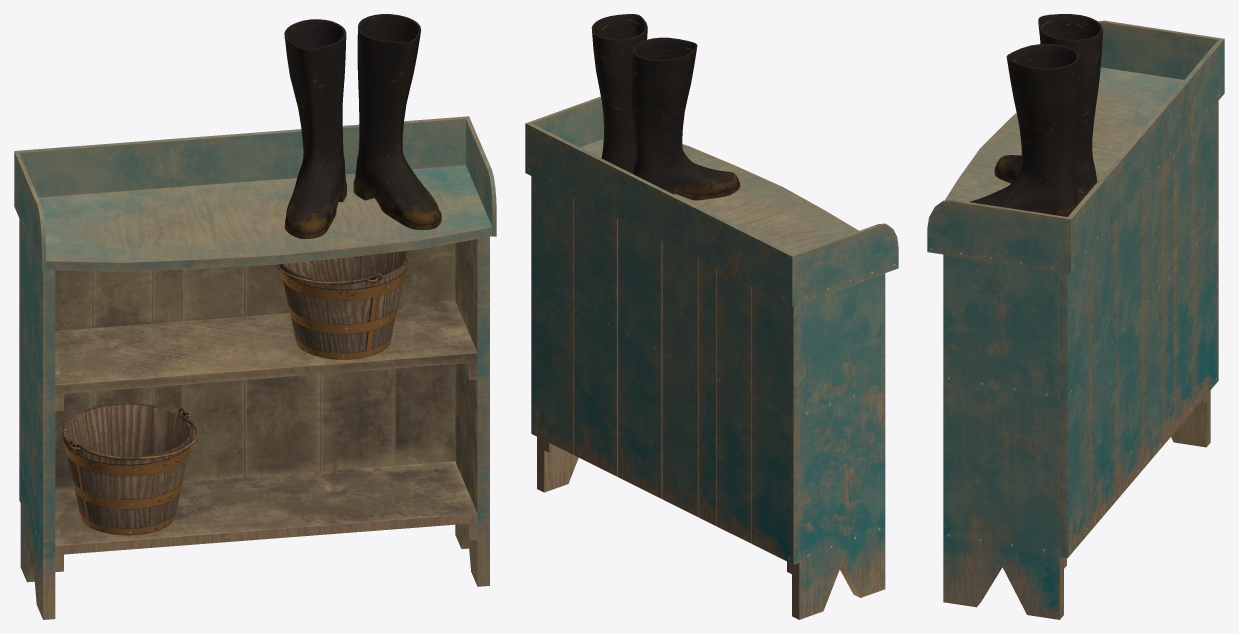
File: bucket_bench_19th_century.glb
3 views of the same model, side by side, from view 1: azimuth 30°, elevation 25°; view 2: azimuth 150°, elevation 25°; view 3: azimuth 270°, elevation 25° (orthographic). The views are drawn at different scales.
Size of the model in its own units: 1.07 by 1.29 by 0.6641.
3 materials, 3 textured.
